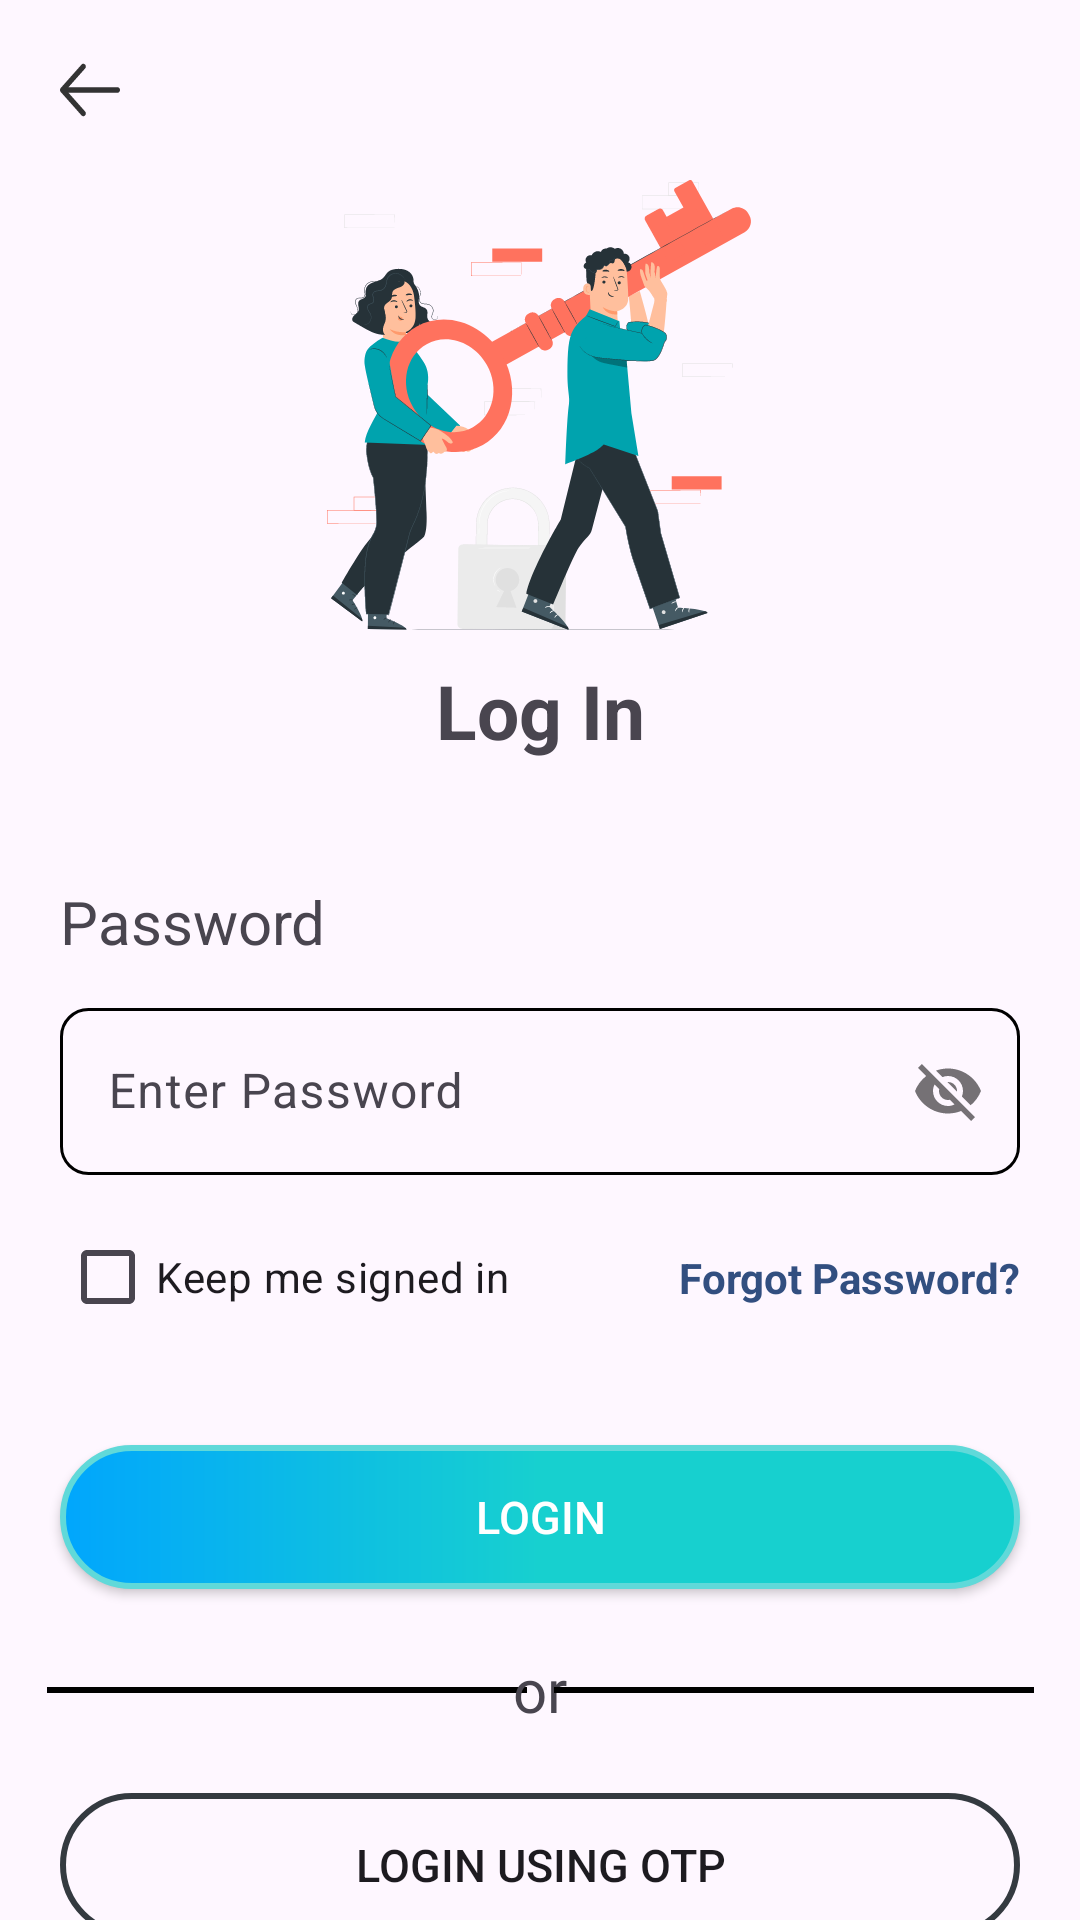

Icons on this 1080w x 1920h Android screen, each with its box as [x1,y1,x2,y2]:
back: [60,63,120,117]
